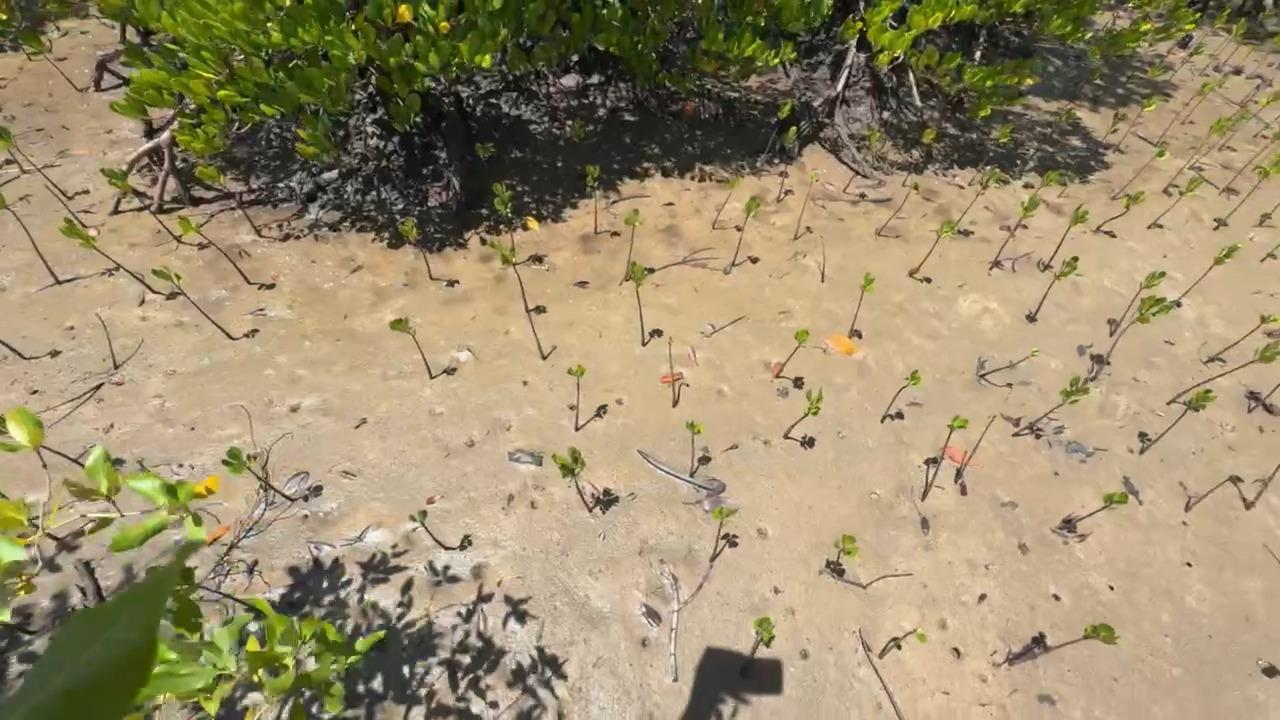Tree: (1090, 295, 1183, 382), (1165, 339, 1280, 407), (58, 217, 156, 295), (99, 167, 184, 244), (191, 159, 265, 239), (0, 191, 62, 286), (150, 265, 234, 334), (1161, 116, 1235, 193), (0, 125, 74, 201), (176, 215, 253, 286), (1138, 388, 1218, 456), (1212, 151, 1280, 231), (1011, 375, 1091, 438), (1008, 623, 1121, 666), (0, 415, 86, 470), (1187, 105, 1254, 170), (1153, 78, 1216, 147), (221, 446, 297, 502), (989, 191, 1042, 271), (921, 415, 969, 503), (1174, 245, 1243, 304), (1218, 130, 1280, 195), (1203, 314, 1280, 365), (1216, 89, 1280, 150), (1109, 270, 1166, 338), (1027, 256, 1080, 323), (1041, 203, 1090, 273), (1111, 143, 1170, 201), (487, 236, 530, 313), (1147, 174, 1207, 229), (1110, 92, 1164, 153), (1222, 7, 1277, 66), (754, 100, 793, 179), (1179, 5, 1230, 65), (1197, 17, 1248, 77), (0, 492, 61, 542), (966, 123, 1014, 186), (955, 164, 1002, 227), (388, 316, 434, 380), (955, 415, 996, 486), (909, 219, 958, 278), (1056, 492, 1129, 531), (550, 446, 593, 512), (1027, 107, 1077, 162), (843, 125, 882, 193), (1184, 474, 1245, 514), (880, 368, 923, 424), (1180, 75, 1229, 124), (877, 180, 919, 237), (782, 385, 824, 440), (740, 616, 776, 680), (398, 215, 433, 280), (730, 195, 760, 267), (902, 128, 937, 187), (1227, 77, 1276, 119), (1095, 191, 1145, 232), (627, 260, 650, 347), (793, 168, 820, 241), (847, 272, 875, 340), (978, 348, 1040, 378), (712, 175, 745, 230), (774, 329, 810, 379), (1241, 16, 1280, 62), (408, 509, 450, 551), (39, 52, 82, 93), (43, 184, 86, 225), (1167, 39, 1208, 82), (1244, 463, 1280, 511), (776, 126, 798, 204), (1124, 61, 1169, 99), (492, 181, 517, 249), (878, 626, 928, 660), (709, 504, 738, 562), (1021, 168, 1060, 209), (624, 208, 644, 282), (566, 363, 586, 432), (1096, 109, 1128, 151), (1252, 31, 1280, 75), (95, 313, 116, 369), (1247, 383, 1280, 415), (832, 533, 859, 572), (685, 419, 703, 477), (586, 164, 600, 235), (528, 312, 547, 360), (862, 573, 914, 590), (667, 335, 678, 408), (1239, 78, 1269, 104), (473, 141, 496, 172), (1252, 113, 1280, 137), (1056, 171, 1080, 199), (1160, 38, 1184, 63), (1257, 203, 1280, 227), (0, 340, 29, 359), (1210, 33, 1231, 57), (7, 149, 27, 174), (571, 118, 587, 143), (1260, 243, 1280, 262), (819, 235, 826, 283), (16, 41, 31, 62)
